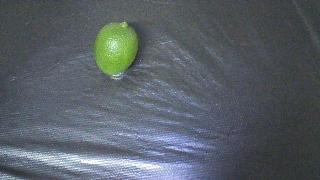LOCAL: (94, 22, 138, 75)
